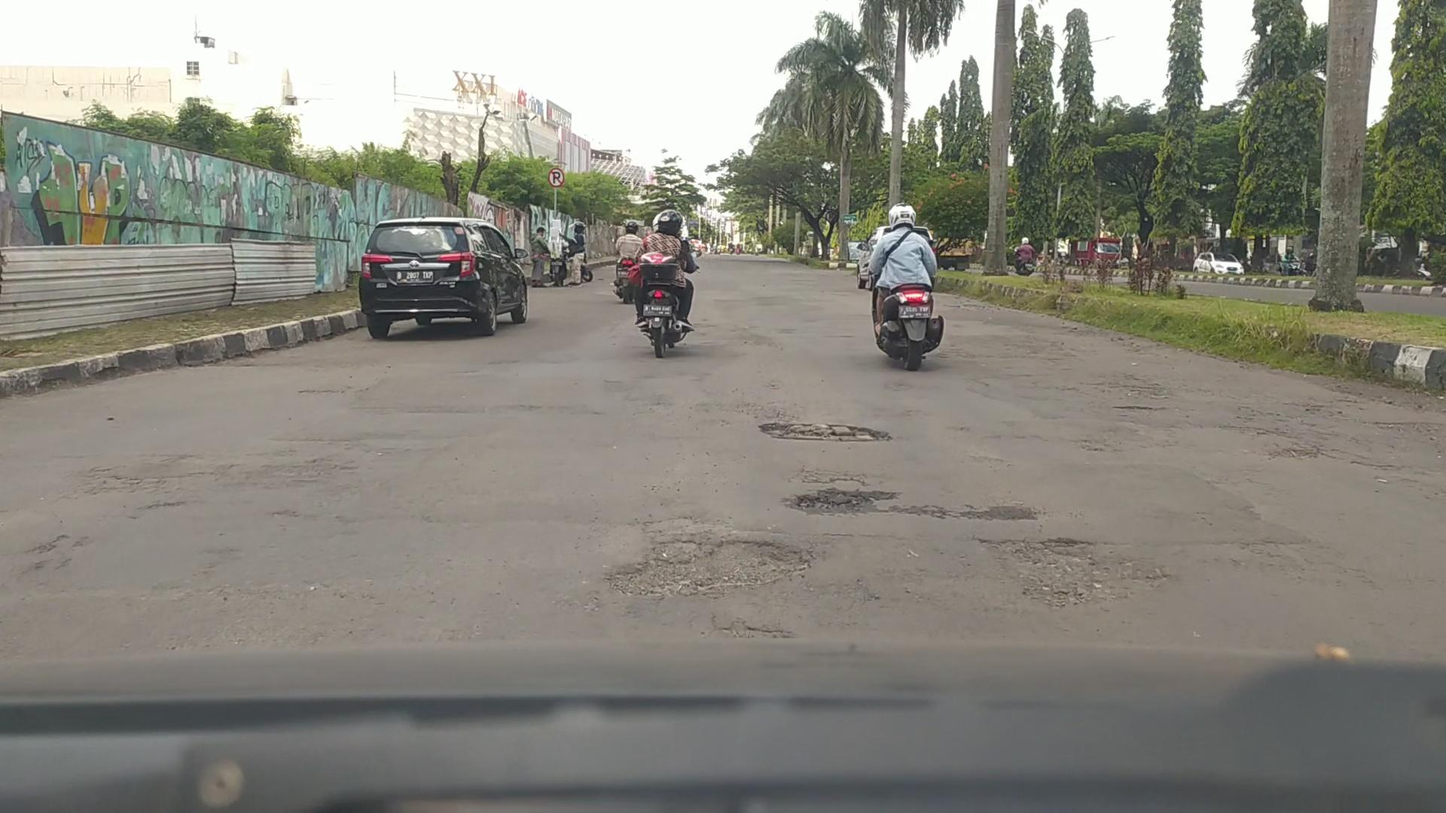pothole: (600, 537, 798, 595), (787, 483, 905, 514), (754, 421, 894, 442)
